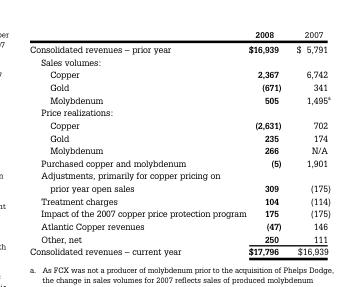table: (29, 28, 329, 256)
table column: (29, 28, 246, 256), (246, 28, 288, 256), (288, 28, 329, 256)
table column header: (29, 28, 329, 41)
table projected row header: (29, 105, 329, 118), (29, 55, 329, 67)
table row: (29, 168, 329, 194), (29, 41, 329, 55), (29, 28, 329, 41), (29, 67, 329, 80), (29, 92, 329, 105), (29, 105, 329, 118), (29, 130, 329, 143), (29, 143, 329, 156), (29, 206, 329, 219), (29, 231, 329, 244), (29, 55, 329, 67), (29, 80, 329, 92), (29, 118, 329, 130), (29, 156, 329, 168), (29, 194, 329, 206), (29, 219, 329, 231), (29, 244, 329, 256)
